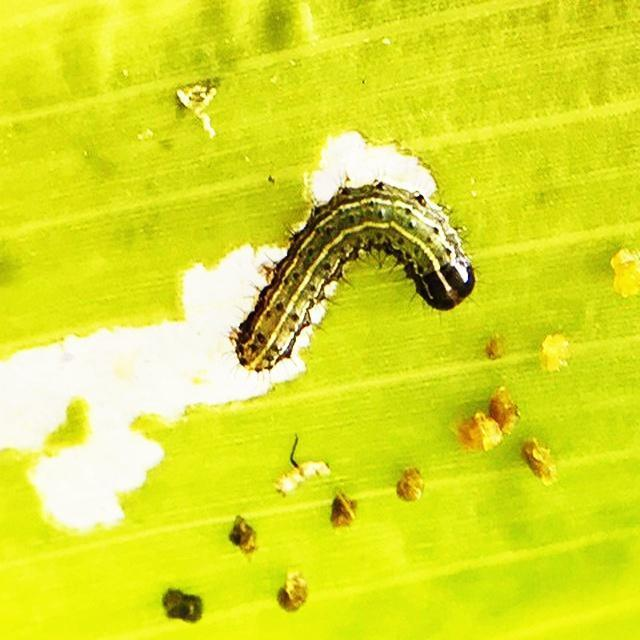gusano_cogollero: (237, 177, 475, 375)
